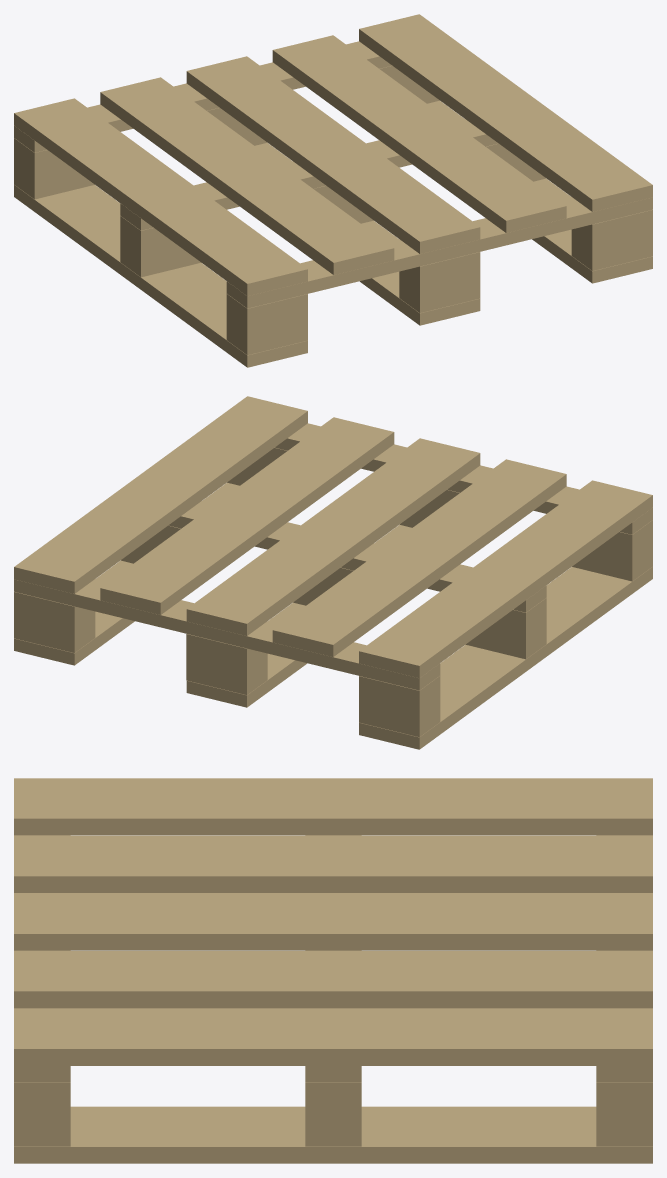
File: pallet1.glb
3 renders of one model, top to bottom at view 1: azimuth 30°, elevation 25°; view 2: azimuth 150°, elevation 25°; view 3: azimuth 270°, elevation 25°, orthographic. The views are drawn at different scales.
Parts seen in each view (by area): view 1: Cube.001, Cube, Cube.003, Cube.002, Cube.004, Cube.019, Cube.007, Cube.015, Cube.012, Cube.009, Cube.014, Cube.016 (+8 smaller); view 2: Cube.001, Cube.003, Cube, Cube.002, Cube.004, Cube.019, Cube.006, Cube.016, Cube.011, Cube.010, Cube.014, Cube.015 (+8 smaller); view 3: Cube, Cube.001, Cube.002, Cube.003, Cube.004, Cube.017, Cube.008, Cube.009, Cube.010, Cube.005, Cube.006, Cube.007.
Part boxes in pixels (left/top/right/bottom): Cube.001: left=100, top=77, right=394, bottom=274; Cube: left=186, top=56, right=480, bottom=253; Cube.003: left=272, top=35, right=566, bottom=232; Cube.002: left=14, top=98, right=307, bottom=296; Cube.004: left=359, top=14, right=652, bottom=211; Cube.019: left=14, top=184, right=307, bottom=367; Cube.007: left=226, top=197, right=652, bottom=308; Cube.015: left=226, top=294, right=307, bottom=355; Cube.012: left=399, top=252, right=480, bottom=312; Cube.009: left=571, top=210, right=652, bottom=270; Cube.014: left=120, top=216, right=200, bottom=277; Cube.016: left=14, top=138, right=94, bottom=199; Cube.001: left=272, top=459, right=566, bottom=656; Cube.003: left=100, top=417, right=394, bottom=614; Cube: left=186, top=438, right=480, bottom=635; Cube.002: left=359, top=480, right=652, bottom=678; Cube.004: left=14, top=396, right=307, bottom=593; Cube.019: left=359, top=566, right=652, bottom=749; Cube.006: left=14, top=579, right=440, bottom=690; Cube.016: left=359, top=676, right=440, bottom=737; Cube.011: left=186, top=634, right=267, bottom=694; Cube.010: left=14, top=592, right=95, bottom=652; Cube.014: left=466, top=598, right=546, bottom=659; Cube.015: left=572, top=520, right=652, bottom=581; Cube: left=14, top=893, right=652, bottom=950; Cube.001: left=14, top=835, right=652, bottom=892; Cube.002: left=14, top=778, right=652, bottom=835; Cube.003: left=14, top=951, right=652, bottom=1008; Cube.004: left=14, top=1008, right=652, bottom=1065; Cube.017: left=14, top=1106, right=652, bottom=1163; Cube.008: left=305, top=1082, right=361, bottom=1146; Cube.009: left=14, top=1082, right=70, bottom=1146; Cube.010: left=596, top=1082, right=652, bottom=1146; Cube.005: left=305, top=835, right=361, bottom=1082; Cube.006: left=596, top=835, right=652, bottom=1082; Cube.007: left=14, top=835, right=70, bottom=1082.
Size of the model in its own units: 4.23 by 0.836 by 4.22.
